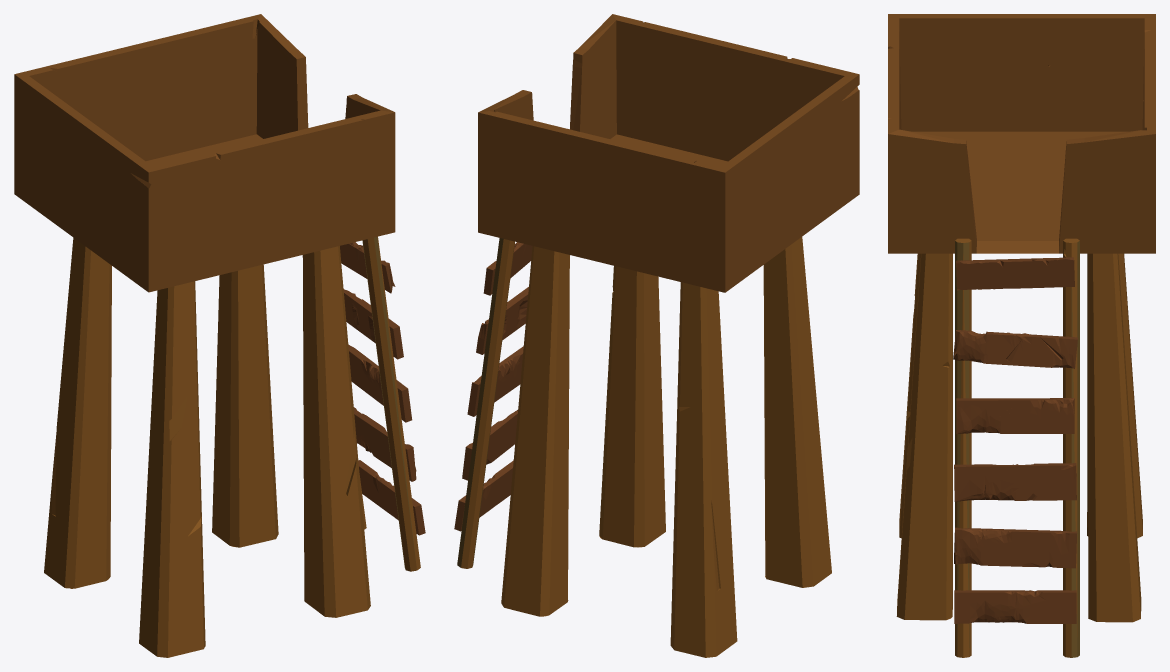
Rendered from ArcherTower 1.fbx.
3 renders of one model, left to right at view 1: azimuth 30°, elevation 25°; view 2: azimuth 150°, elevation 25°; view 3: azimuth 270°, elevation 25°, orthographic.
Parts seen in each view (by area): view 1: ArcherTower; view 2: ArcherTower; view 3: ArcherTower.
Boxes of the visible parts, <box> form: ArcherTower: <box>14,14,425,657</box>; ArcherTower: <box>454,14,859,657</box>; ArcherTower: <box>888,14,1155,657</box>.
Bounding box in the file's own units: 189 × 289 × 142.
